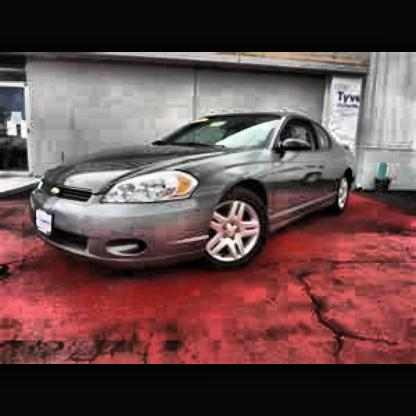Chevrolet Monte Carlo Coupe 2007: (32, 112, 363, 274)
